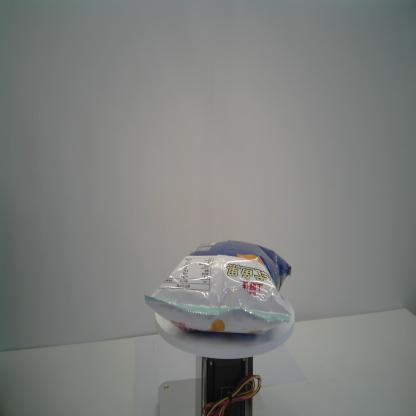Puffed Food: (143, 239, 293, 336)
